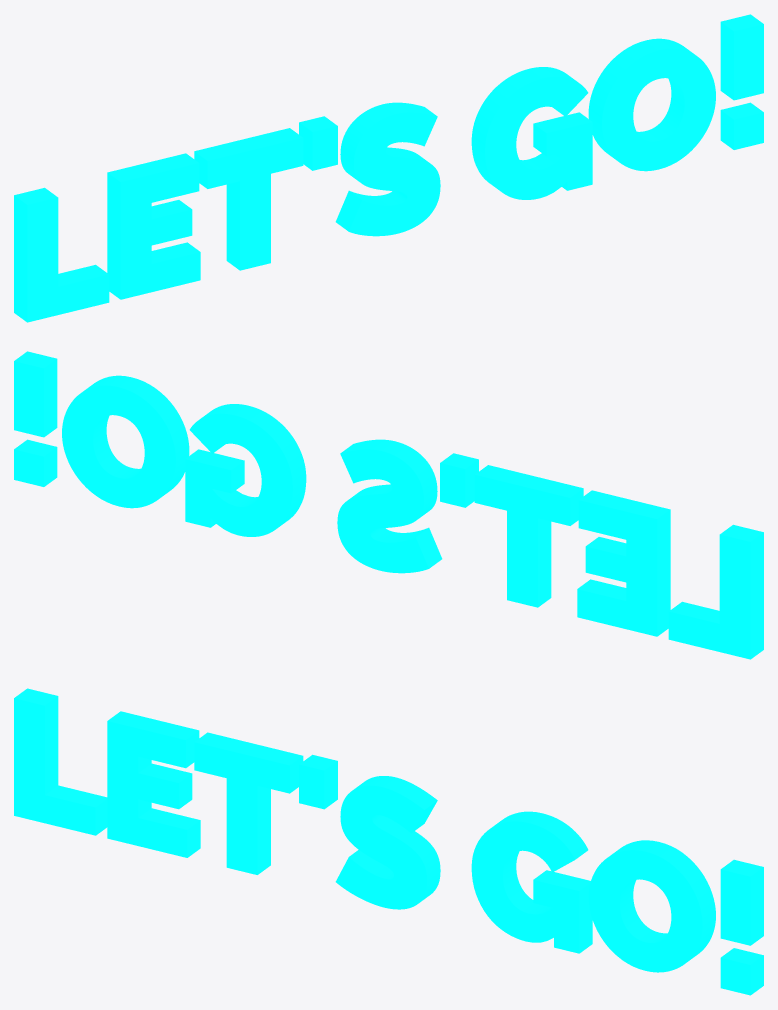
The model's file is letsgo.fbx.
The picture shows the model from 3 angles, top to bottom: view 1: azimuth 30°, elevation 25°; view 2: azimuth 150°, elevation 25°; view 3: azimuth 330°, elevation 25°; orthographic projection.
Parts seen in each view (by area): view 1: typeMesh7; view 2: typeMesh7; view 3: typeMesh7.
Part boxes in pixels (x1,y1,x2,y2): typeMesh7: (14, 14, 763, 322); typeMesh7: (14, 351, 763, 659); typeMesh7: (14, 688, 763, 995).
Bounding box in the file's own units: 79.57 × 12.63 × 2.5.
